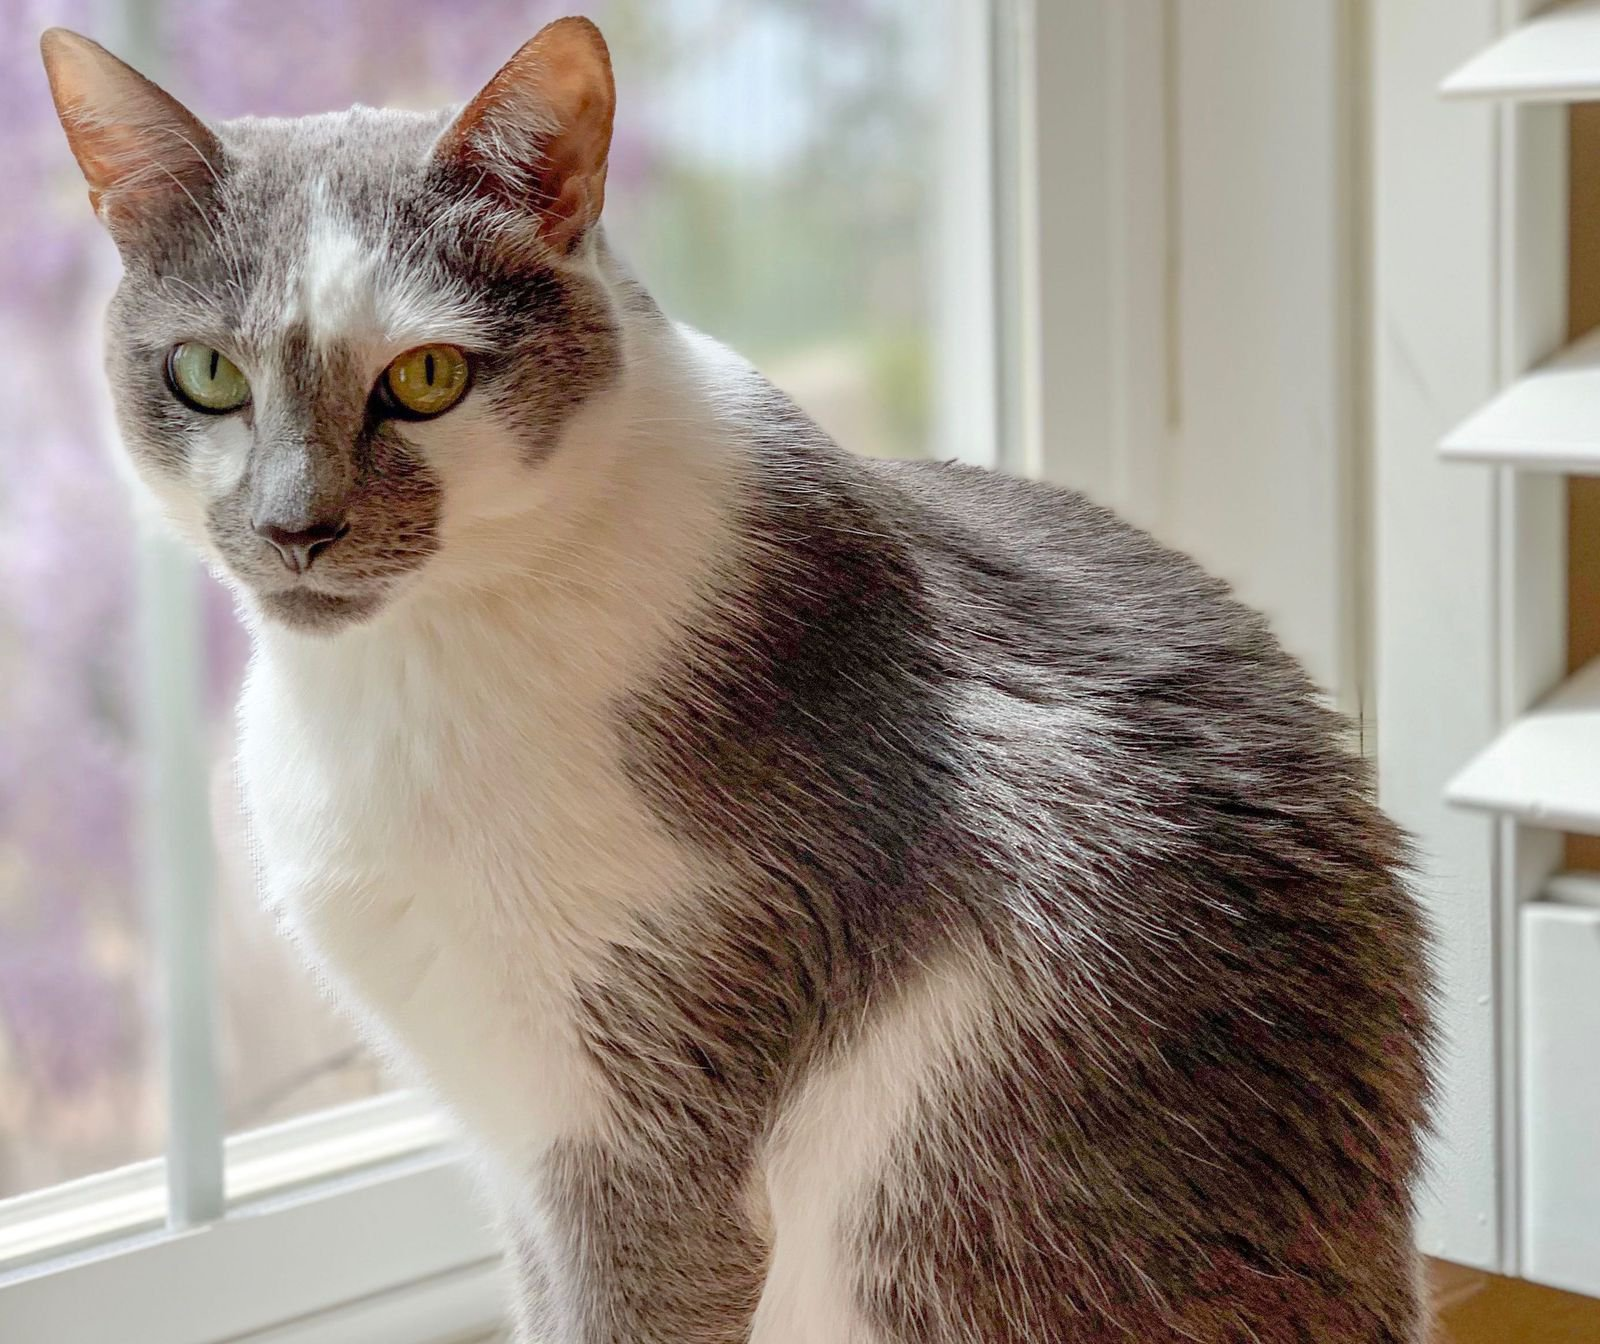cat: (11, 16, 1435, 1344)
